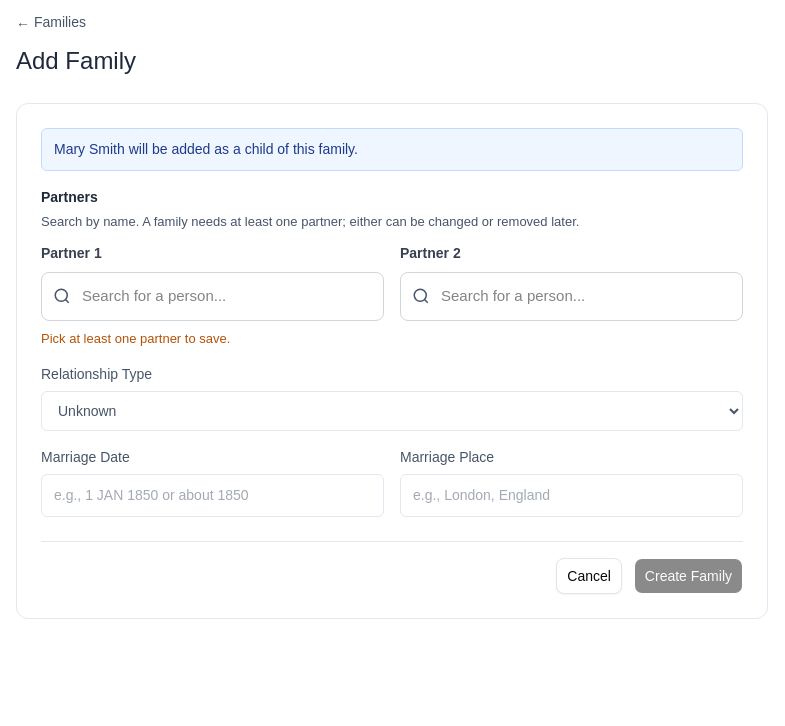
Add Family page (#826) › says the family exists when only the child link fails
The image size is (785, 726).
Expected: the text "Mary Smith will be added as a child of this family." is shown, 41,128 -> 743,170
In the dropdown named "Partner 1": coordinates (212, 296) 41,272 -> 384,320, type "Smith"
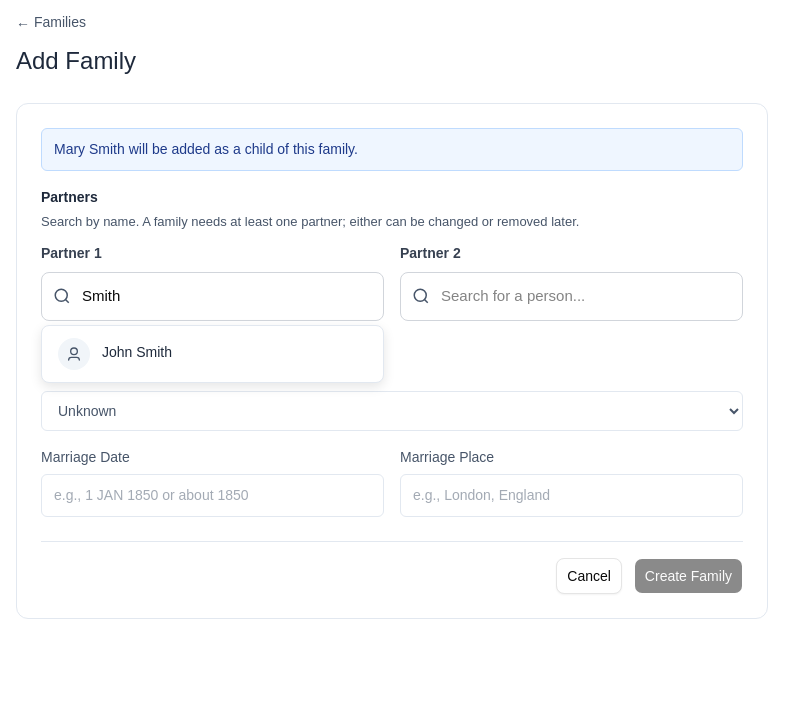
Click the option "John Smith": coordinates (74, 354) 42,326 -> 383,382
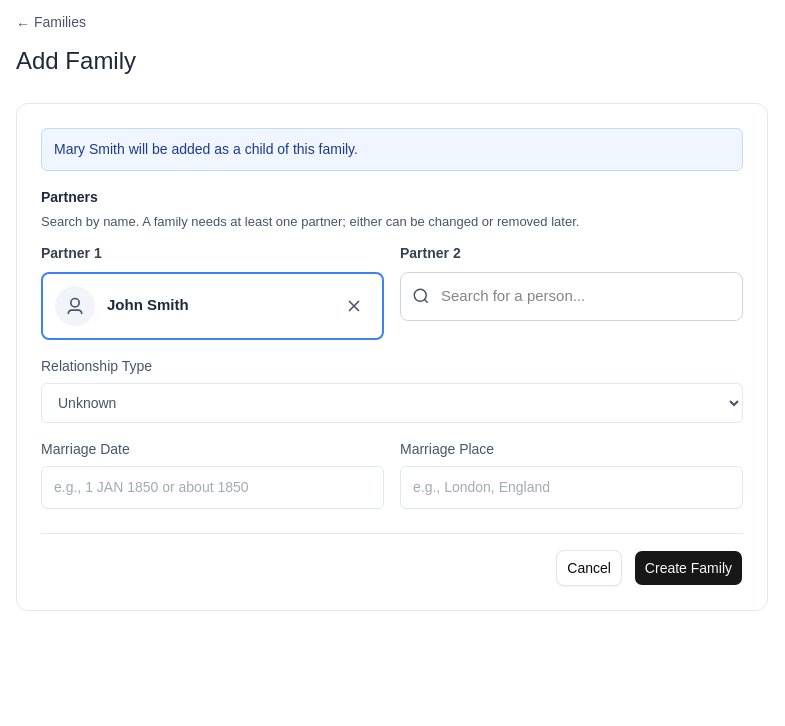
Click the button "Create Family": coordinates (688, 568) 634,550 -> 743,586
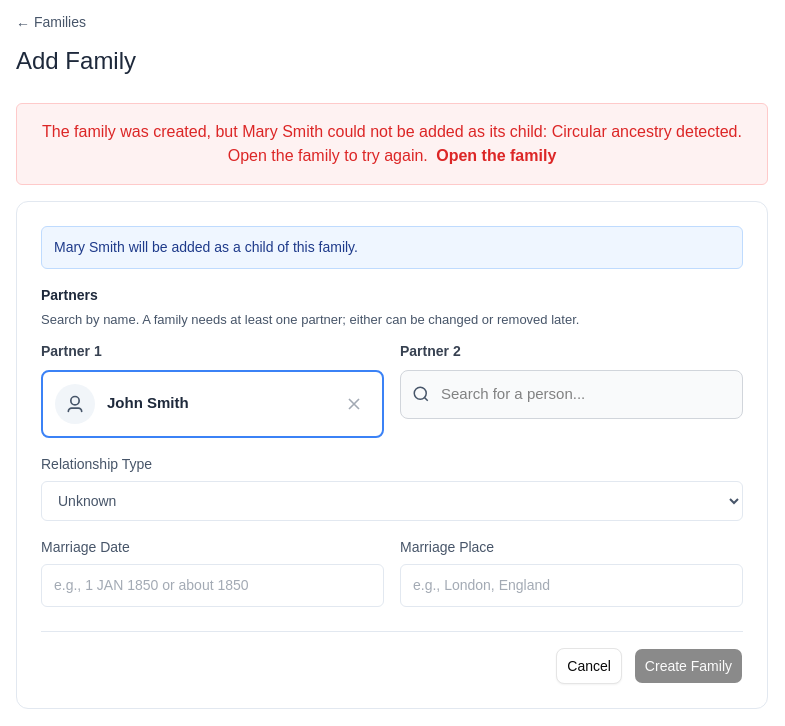
Expected: the message shows "The family was created, but Mary Smith could not be added", 42,122 -> 742,164
Expected: the button "Create Family" is disabled, 634,648 -> 743,684
